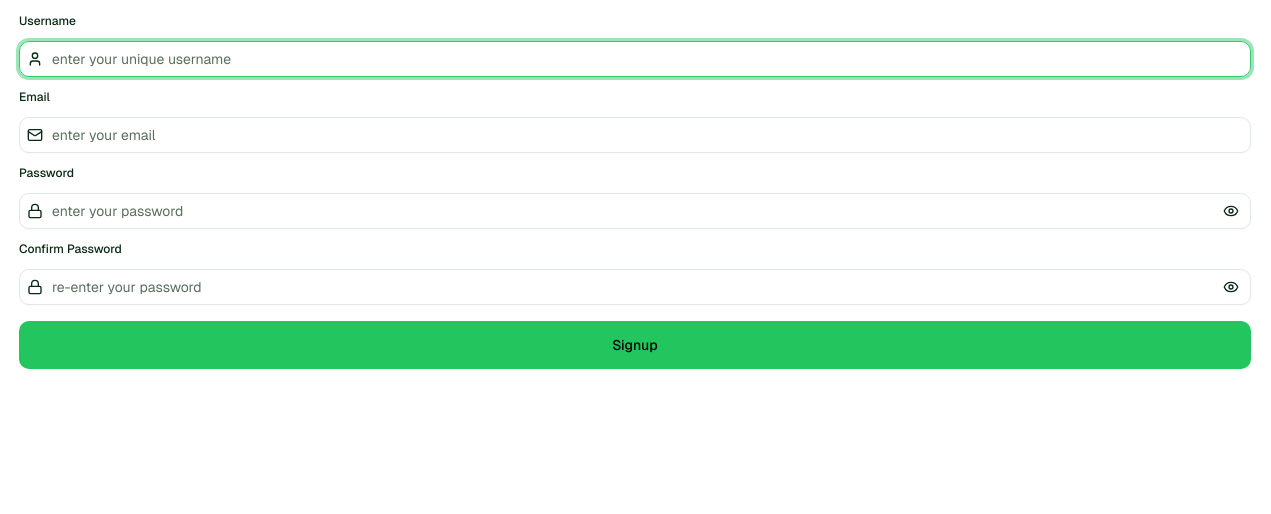
Test case: SignupForm › Form Validation › should show password error when password is shorter than 8 characters
In the password field with test id "signup-password-input": x=635, y=211 top-left (19, 193), bottom-right (1251, 229), type "Ab1!"
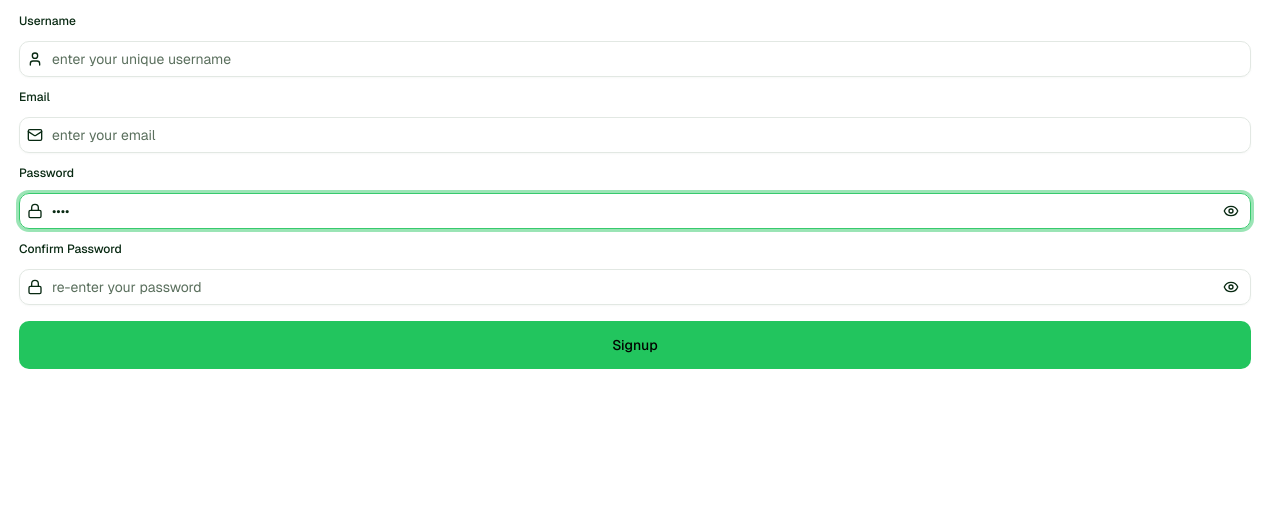
Click the button with test id "signup-submit-button": x=635, y=345 top-left (19, 321), bottom-right (1251, 369)
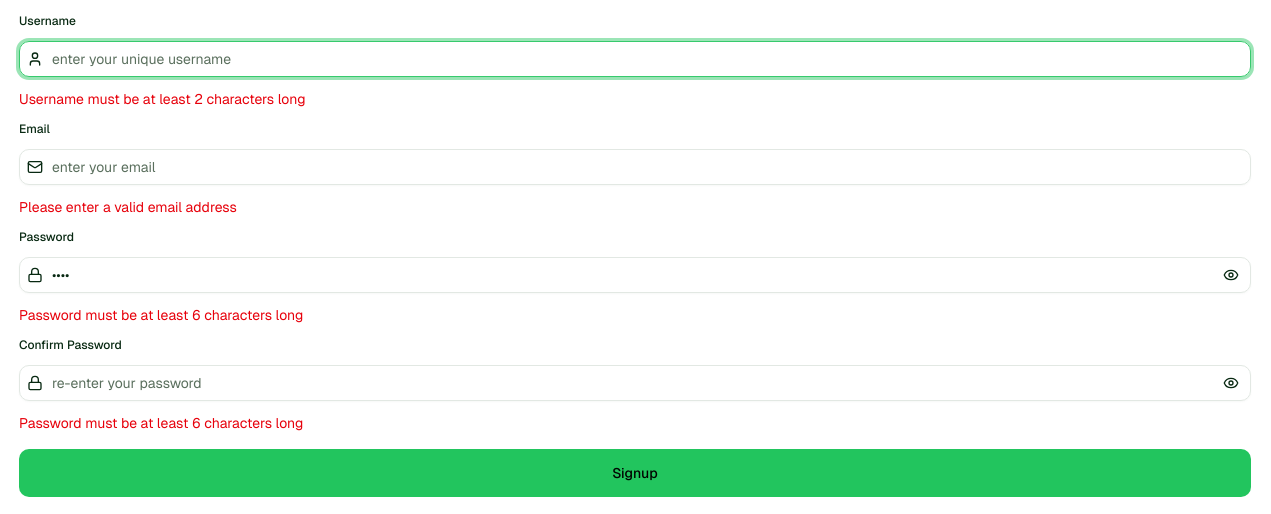
Now the message with test id "signup-password-error" shows "Password must be", box top-left (19, 306), bottom-right (303, 324)
